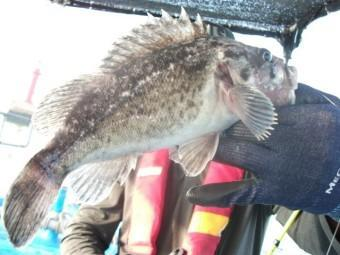fish: (4, 11, 298, 249)
